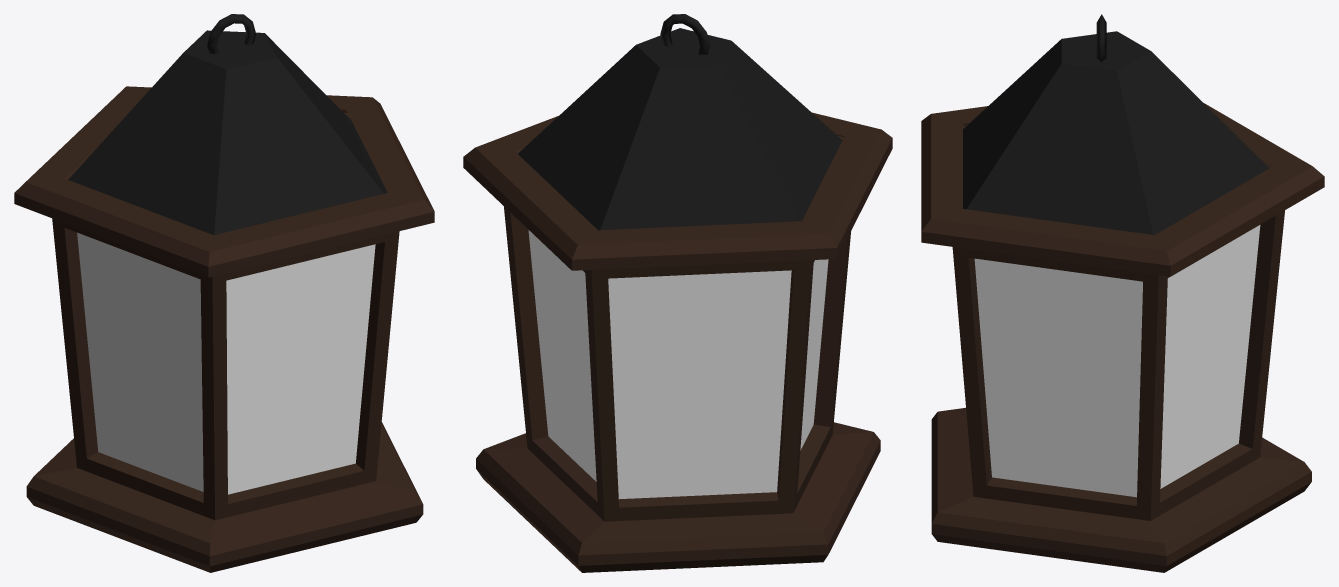
The model's file is Lantern V4.glb.
The picture shows the model from 3 angles, left to right: view 1: azimuth 30°, elevation 25°; view 2: azimuth 150°, elevation 25°; view 3: azimuth 270°, elevation 25°; orthographic projection. The views are drawn at different scales.
Visible parts, largest first — view 1: Lantern Base, Lanter Glass, Lantern Top; view 2: Lantern Base, Lanter Glass, Lantern Top; view 3: Lantern Base, Lanter Glass, Lantern Top.
Boxes of the visible parts, x1,y1,x2,y2 form: Lantern Base: [14, 86, 434, 572]; Lanter Glass: [77, 232, 375, 494]; Lantern Top: [68, 14, 387, 235]; Lantern Base: [463, 112, 892, 572]; Lanter Glass: [528, 230, 828, 499]; Lantern Top: [518, 14, 842, 230]; Lantern Base: [921, 103, 1324, 572]; Lanter Glass: [974, 225, 1260, 497]; Lantern Top: [963, 14, 1269, 234].
Bounding box in the file's own units: 2.09 × 2.58 × 1.99.
